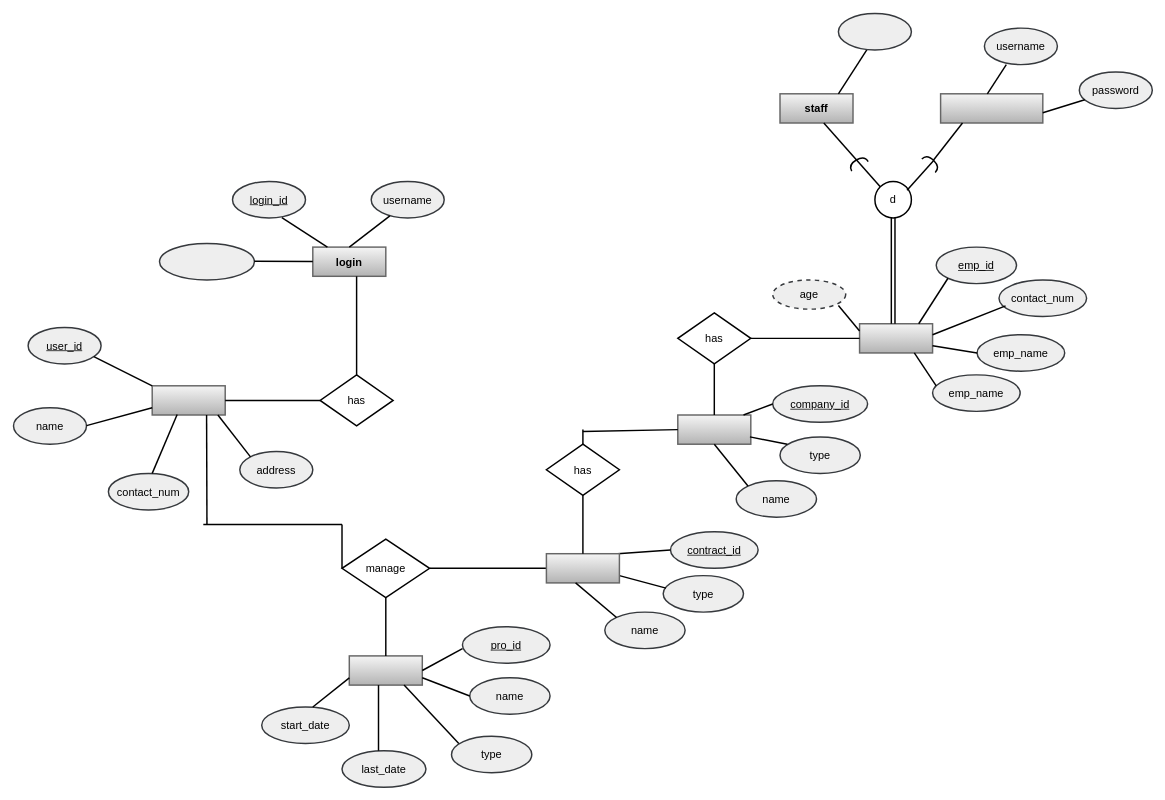
This 1165x800 diagram has some shape labels left out. The box of each missing label's shape, as (x1, y1, x2, y2) in pixels:
company: (677, 414, 751, 445)
contract: (545, 553, 620, 583)
employee: (858, 323, 933, 353)
management: (940, 93, 1043, 123)
position: (837, 12, 912, 50)
Project: (348, 655, 423, 685)
user: (151, 385, 226, 415)
user_password: (158, 242, 255, 280)
